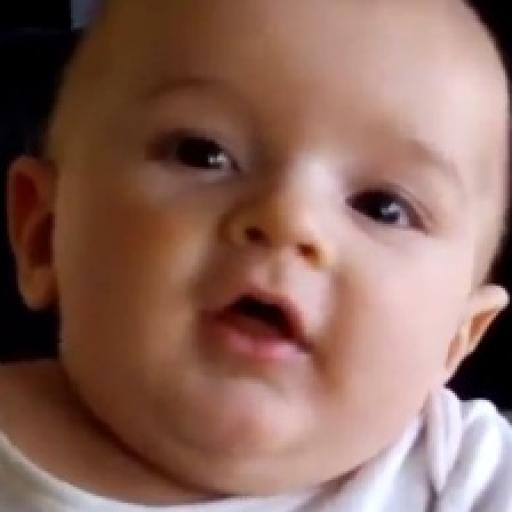Autism: (59, 7, 512, 478)
